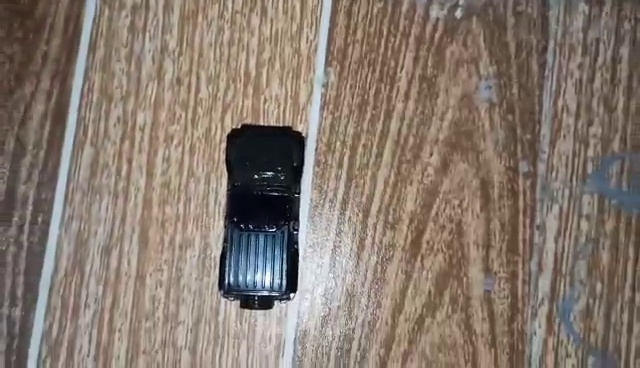car: (218, 128, 303, 315)
